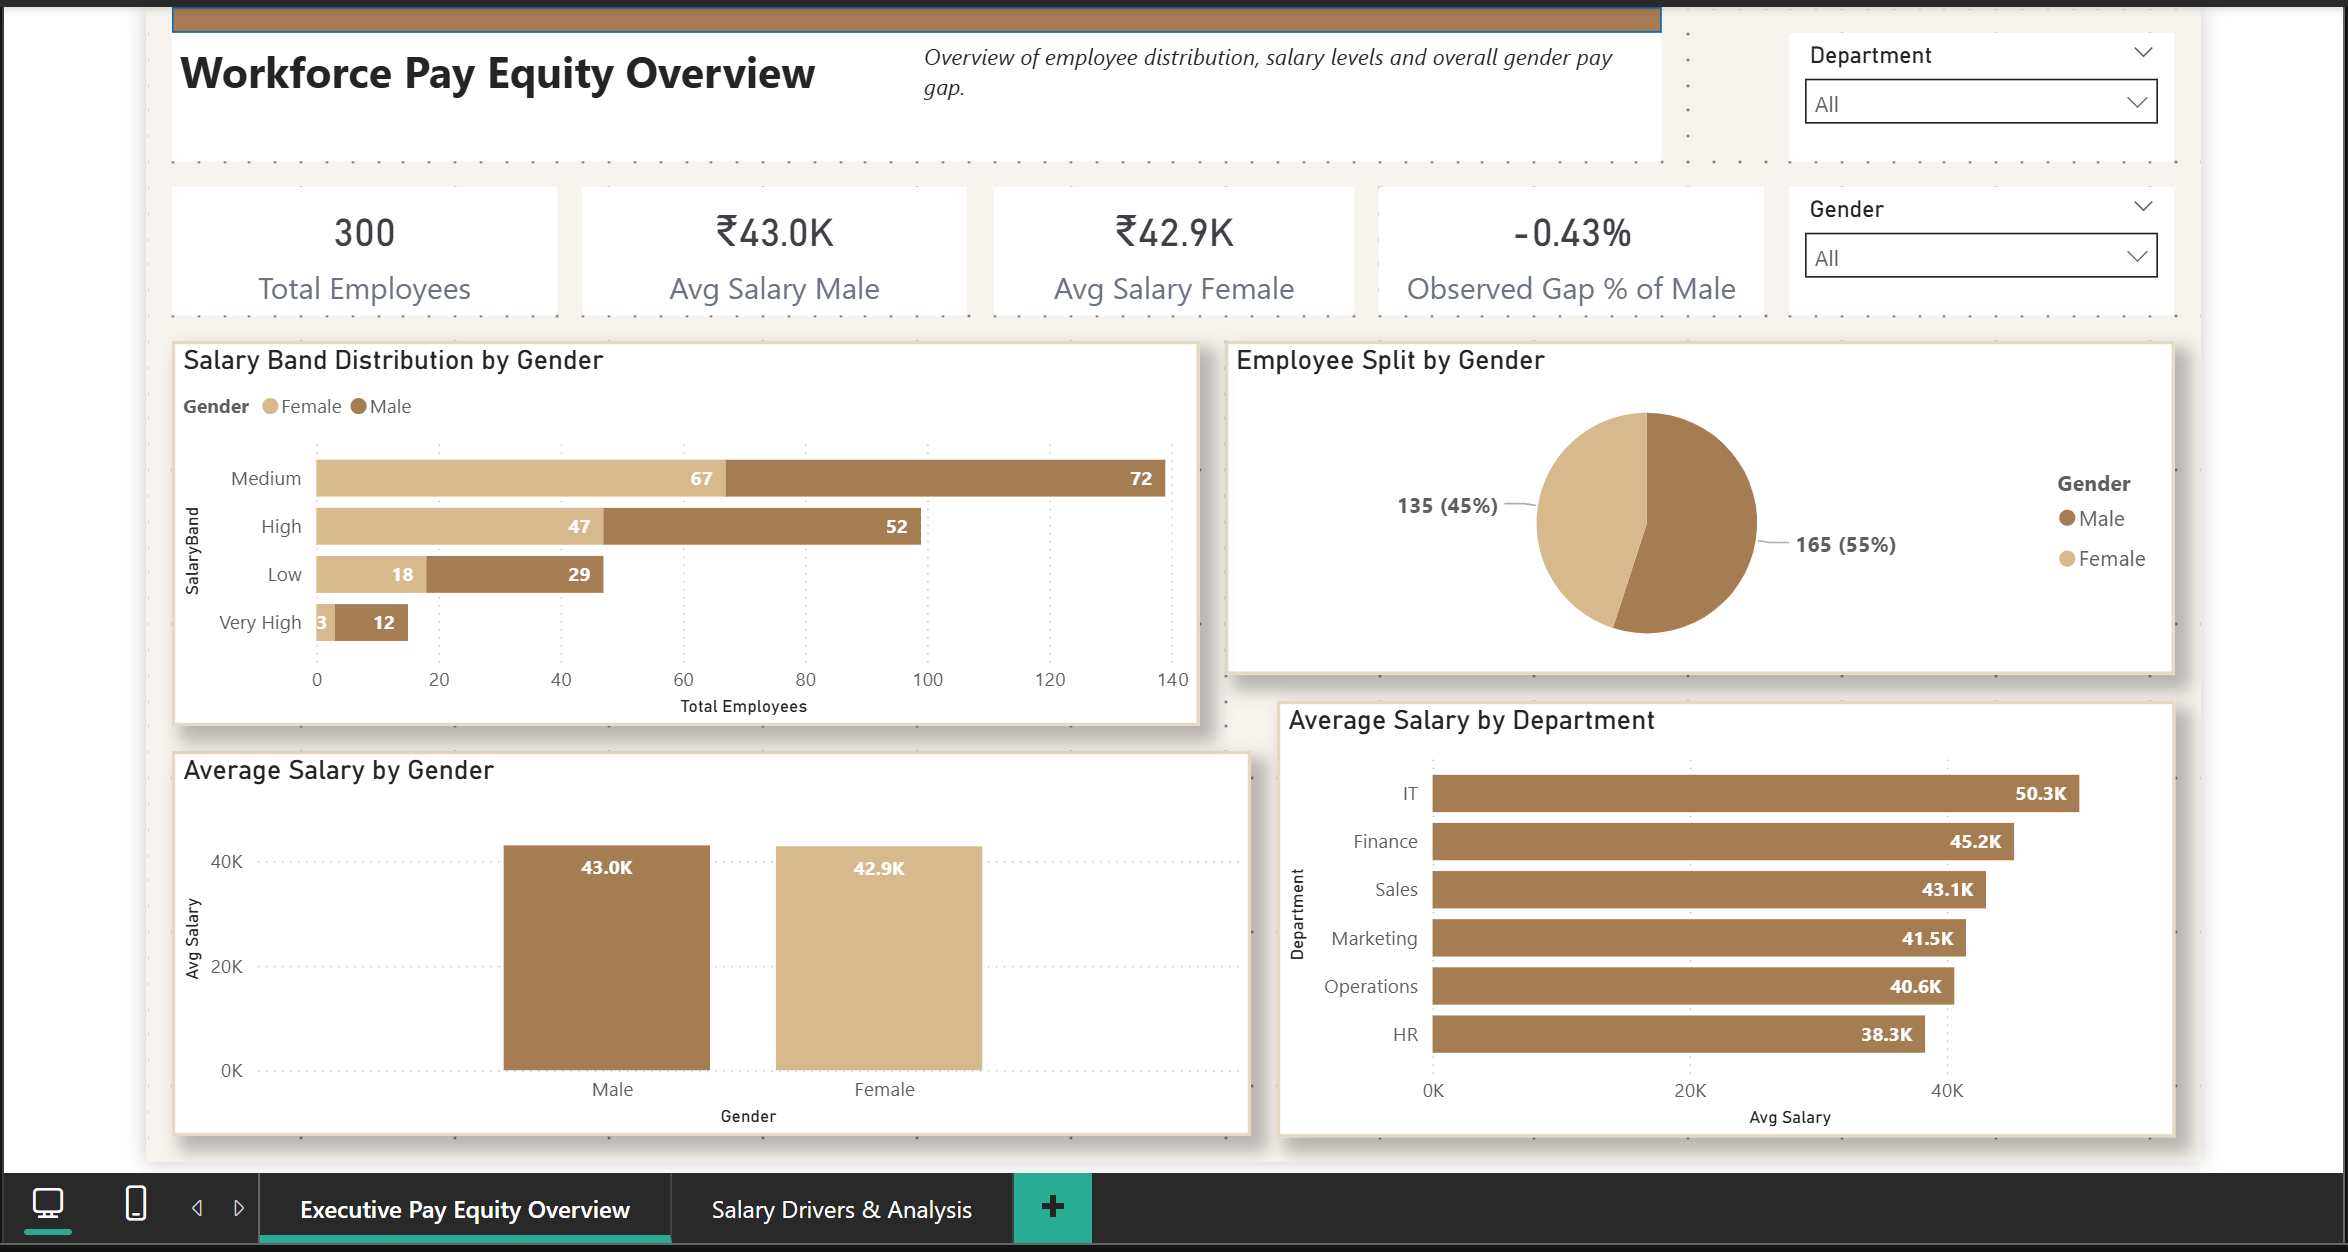

Layout of this report page (visuals, bound fields, positions):
{"tool":"powerbi","page":{"name":"Executive Pay Equity Overview","canvas":[1280,720],"ordinal":0},"visuals":[{"type":"textbox","box":[16,16,464,80],"z":0,"group":"g1"},{"type":"card","fields":{"Values":["_Measures.Total Employees"]},"box":[16,112,240,80],"z":0},{"type":"textbox","box":[480,16,464,80],"z":1000,"group":"g1"},{"type":"pieChart","title":"Employee Split by Gender","fields":{"Category":["cleaned_pay_equity.Gender"],"Y":["_Measures.Total Employees"]},"box":[672,208,592,208],"z":1000},{"type":"clusteredColumnChart","title":"Average Salary by Gender","fields":{"Category":["cleaned_pay_equity.Gender"],"Y":["_Measures.Avg Salary"]},"box":[16,464,672,240],"z":2000},{"type":"clusteredBarChart","title":"Average Salary by Department","fields":{"Category":["cleaned_pay_equity.Department"],"Y":["_Measures.Avg Salary"]},"box":[704,432,560,272],"z":3000},{"type":"barChart","title":"Salary Band Distribution by Gender","fields":{"Category":["cleaned_pay_equity.SalaryBand"],"Series":["cleaned_pay_equity.Gender"],"Y":["_Measures.Total Employees"]},"box":[16,208,640,240],"z":4000},{"type":"card","fields":{"Values":["_Measures.Avg Salary Male"]},"box":[272,112,240,80],"z":5000},{"type":"card","fields":{"Values":["_Measures.Avg Salary Female"]},"box":[528,112,224,80],"z":6000},{"type":"card","fields":{"Values":["_Measures.Observed Gap % of Male"]},"box":[768,112,240,80],"z":7000},{"type":"group","id":"g1","title":"Group 1","box":[16,16,928,80],"z":8000},{"type":"slicer","fields":{"Values":["cleaned_pay_equity.Gender"]},"box":[1024,112,240,80],"z":9000},{"type":"slicer","fields":{"Values":["cleaned_pay_equity.Department"]},"box":[1024,16,240,80],"z":10000},{"type":"shape","box":[16,0,928,16],"z":11000}]}

Visuals, with their boxes on the page's 1280x720 design canvas (x1, y1, x2, y2). These are canvas units, not pixel positions in the 2348x1252 screenshot, which may show the page scaled, cropped or inside an application window:
textbox: crop(16, 16, 480, 96)
card - _Measures.Total Employees: crop(16, 112, 256, 192)
textbox: crop(480, 16, 944, 96)
"Employee Split by Gender" pieChart: crop(672, 208, 1264, 416)
"Average Salary by Gender" clusteredColumnChart: crop(16, 464, 688, 704)
"Average Salary by Department" clusteredBarChart: crop(704, 432, 1264, 704)
"Salary Band Distribution by Gender" barChart: crop(16, 208, 656, 448)
card - _Measures.Avg Salary Male: crop(272, 112, 512, 192)
card - _Measures.Avg Salary Female: crop(528, 112, 752, 192)
card - _Measures.Observed Gap % of Male: crop(768, 112, 1008, 192)
"Group 1" group: crop(16, 16, 944, 96)
slicer - cleaned_pay_equity.Gender: crop(1024, 112, 1264, 192)
slicer - cleaned_pay_equity.Department: crop(1024, 16, 1264, 96)
shape: crop(16, 0, 944, 16)
